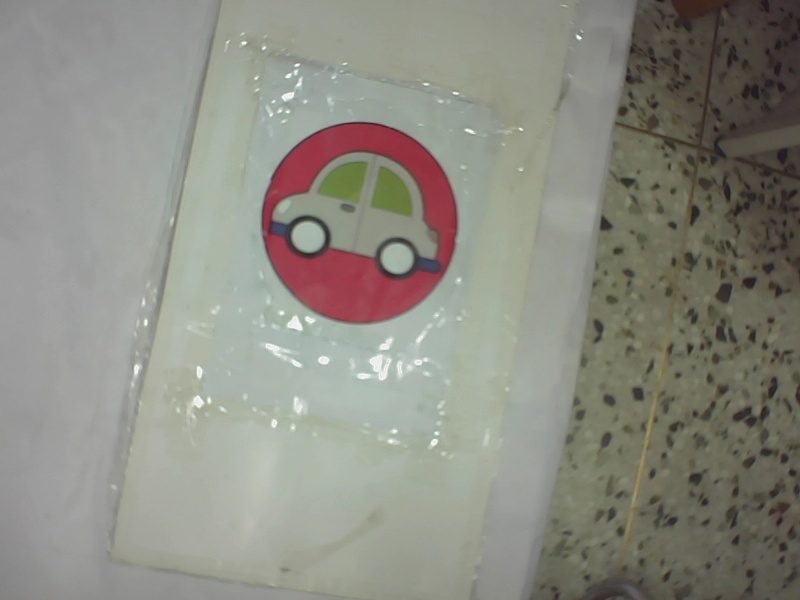areaC: (251, 116, 480, 331)
